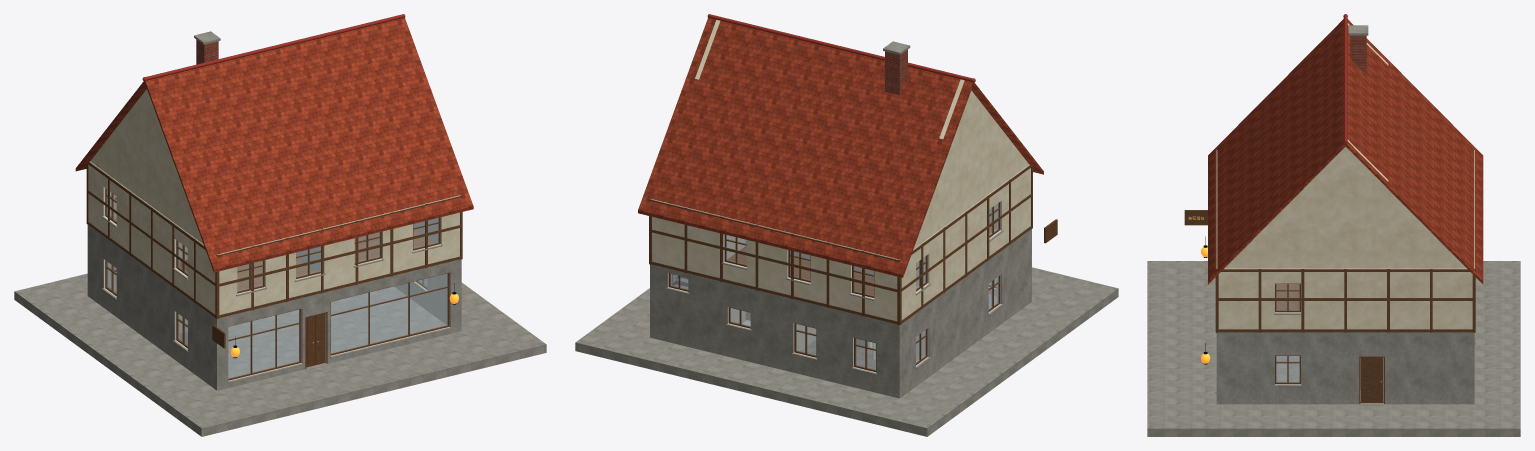
The model's file is b_tudor_inn.gltf.
The picture shows the model from 3 angles, left to right: view 1: azimuth 30°, elevation 25°; view 2: azimuth 150°, elevation 25°; view 3: azimuth 270°, elevation 25°; orthographic projection. The views are drawn at different scales.
Visible parts, largest first — view 1: S_tudor_inn, D_tudor_inn_F1_S2_Door1; view 2: S_tudor_inn; view 3: S_tudor_inn, D_tudor_inn_F1_E1_Door0.
Part boxes in pixels (x1,y1,x2,y2): S_tudor_inn: (14, 14, 546, 436); D_tudor_inn_F1_S2_Door1: (315, 313, 325, 365); S_tudor_inn: (575, 14, 1118, 436); S_tudor_inn: (1147, 14, 1520, 436); D_tudor_inn_F1_E1_Door0: (1361, 357, 1383, 402).
Size of the model in its own units: 17 by 13.91 by 16.
Materials: 20 (12 with a texture image).
